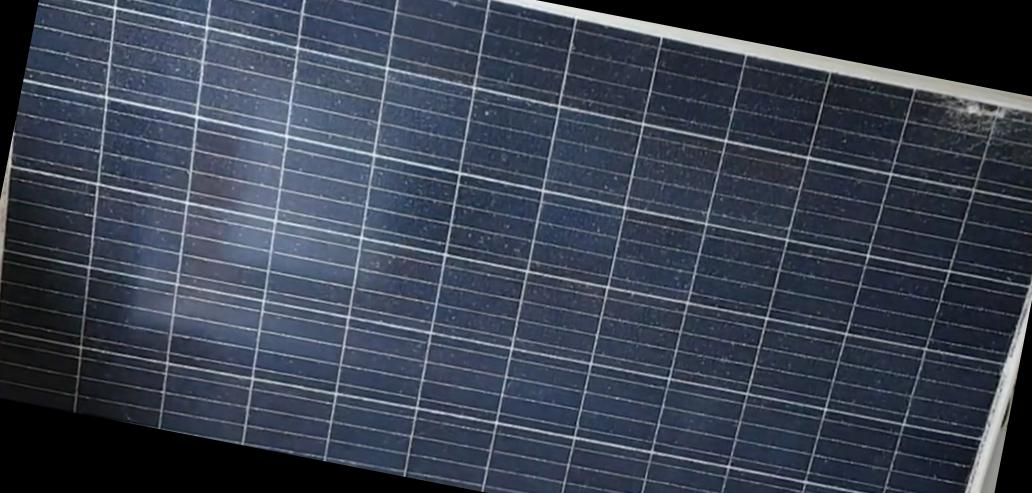Crack: (920, 84, 1031, 154)
